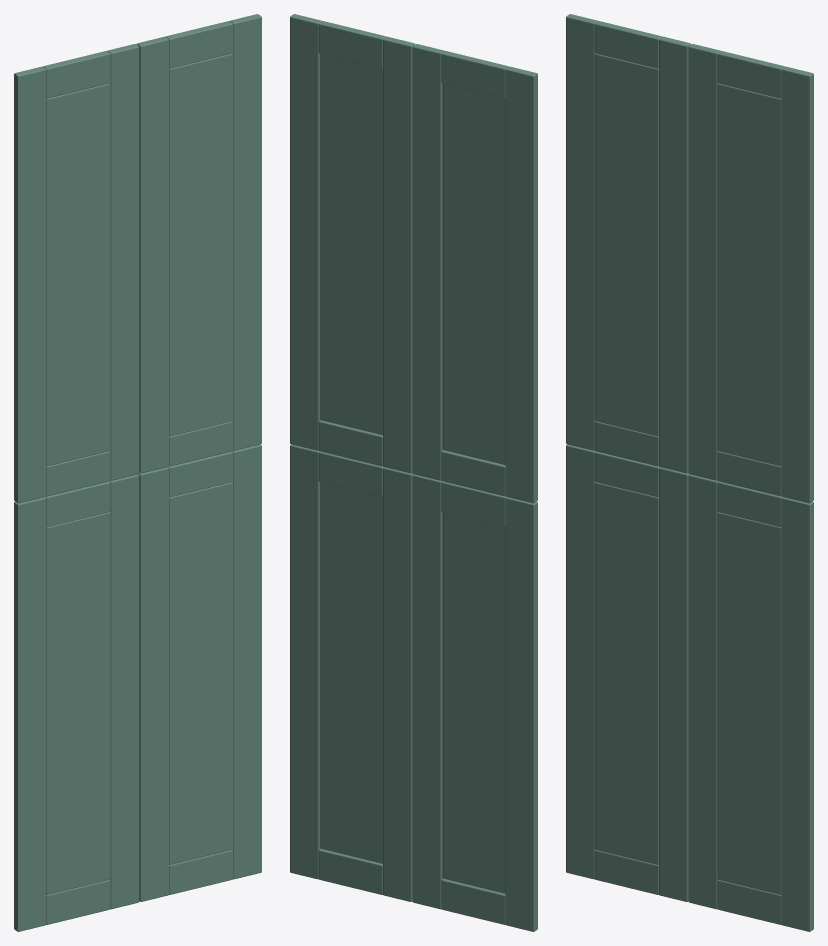
Rendered from DOOR_DOUBLE_VERTICAL_2_600x2000.glb.
3 views of the same model, side by side, from view 1: azimuth 30°, elevation 25°; view 2: azimuth 150°, elevation 25°; view 3: azimuth 330°, elevation 25° (orthographic).
Visible parts, largest first — view 1: front_panel_01_center, front_panel_02_center, front_panel_03_center, front_panel_04_center, front_panel_03_left, front_panel_01_left, front_panel_04_left, front_panel_03_right, front_panel_01_right, front_panel_02_left, front_panel_04_right, front_panel_02_right (+8 smaller); view 2: front_panel_03_center, front_panel_01_center, front_panel_02_center, front_panel_04_center, front_panel_03_left, front_panel_01_left, front_panel_03_right, front_panel_04_right, front_panel_01_right, front_panel_02_right, front_panel_04_left, front_panel_02_left (+8 smaller); view 3: front_panel_01_center, front_panel_02_center, front_panel_03_center, front_panel_04_center, front_panel_04_right, front_panel_02_right, front_panel_03_right, front_panel_04_left, front_panel_01_right, front_panel_02_left, front_panel_03_left, front_panel_01_left (+8 smaller).
Part boxes in pixels (x1,y1,x2,y2): front_panel_01_center: (46, 512, 110, 894); front_panel_02_center: (169, 482, 233, 864); front_panel_03_center: (46, 83, 110, 466); front_panel_04_center: (169, 53, 233, 436); front_panel_03_left: (14, 66, 46, 503); front_panel_01_left: (14, 497, 46, 931); front_panel_04_left: (136, 36, 168, 473); front_panel_03_right: (107, 44, 139, 480); front_panel_01_right: (109, 474, 139, 909); front_panel_02_left: (138, 467, 168, 901); front_panel_04_right: (230, 14, 261, 450); front_panel_02_right: (232, 444, 261, 879); front_panel_03_center: (442, 83, 505, 464); front_panel_01_center: (442, 512, 505, 893); front_panel_02_center: (320, 482, 382, 863); front_panel_04_center: (320, 53, 382, 434); front_panel_03_left: (505, 66, 537, 503); front_panel_01_left: (505, 497, 537, 931); front_panel_03_right: (412, 44, 444, 480); front_panel_04_right: (290, 14, 321, 450); front_panel_01_right: (412, 474, 442, 909); front_panel_02_right: (290, 444, 320, 879); front_panel_04_left: (383, 36, 415, 473); front_panel_02_left: (383, 467, 413, 901); front_panel_01_center: (594, 482, 658, 864); front_panel_02_center: (717, 512, 781, 894); front_panel_03_center: (594, 53, 658, 436); front_panel_04_center: (717, 83, 781, 466); front_panel_04_right: (781, 66, 813, 503); front_panel_02_right: (781, 497, 813, 931); front_panel_03_right: (659, 36, 691, 473); front_panel_04_left: (688, 44, 720, 480); front_panel_01_right: (659, 467, 689, 901); front_panel_02_left: (688, 474, 718, 909); front_panel_03_left: (566, 14, 597, 450); front_panel_01_left: (566, 444, 595, 879).
Size of the model in its own units: 0.596 by 2 by 0.018.
